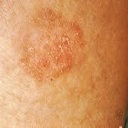Carcinoma: (22, 15, 84, 79)
